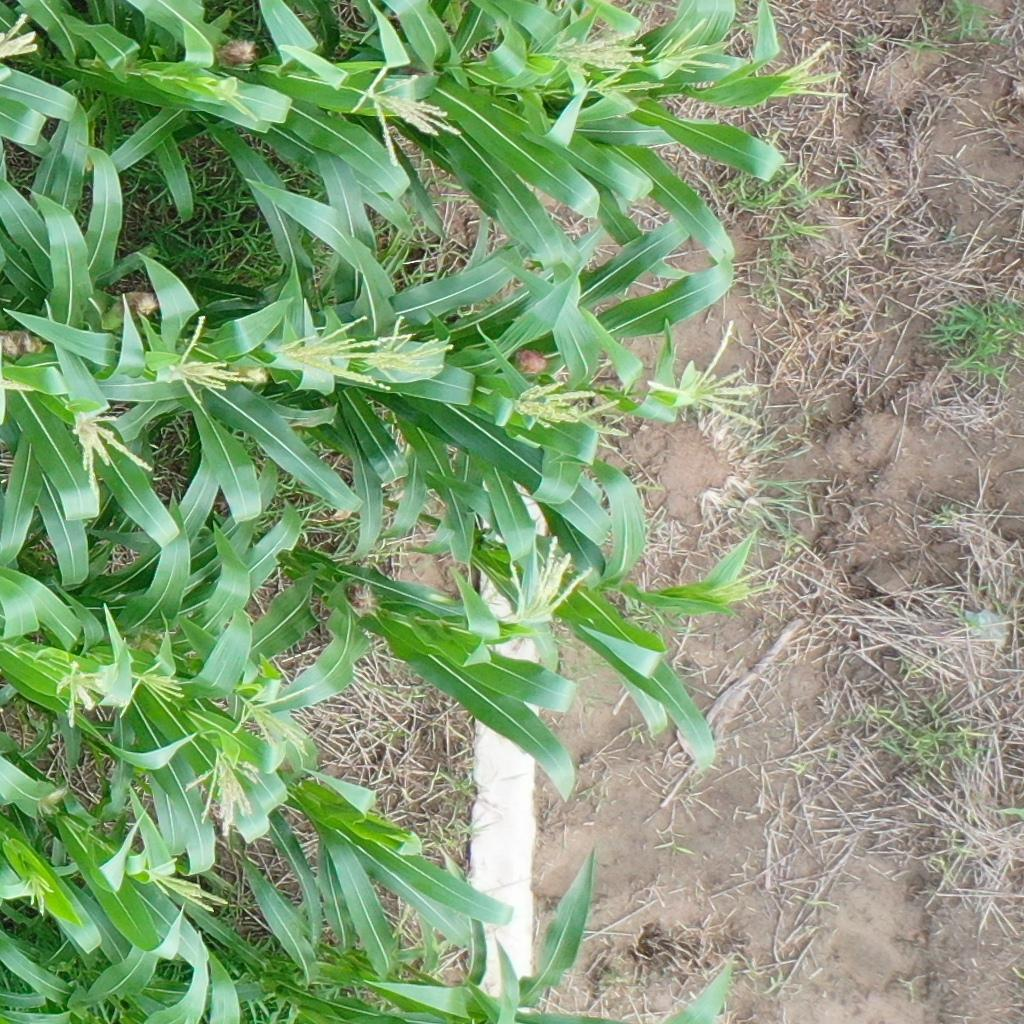Tassel: (645, 318, 767, 435), (351, 61, 465, 168), (497, 531, 595, 628), (274, 313, 389, 393), (505, 373, 633, 443), (176, 312, 269, 407), (67, 399, 157, 485), (183, 749, 267, 840), (366, 311, 458, 381), (233, 678, 315, 756), (139, 853, 224, 915), (653, 15, 737, 77), (767, 39, 852, 100), (115, 660, 189, 719), (542, 31, 648, 72), (52, 655, 108, 729), (584, 70, 666, 111), (706, 565, 780, 608), (1, 7, 46, 77), (19, 864, 59, 913)
